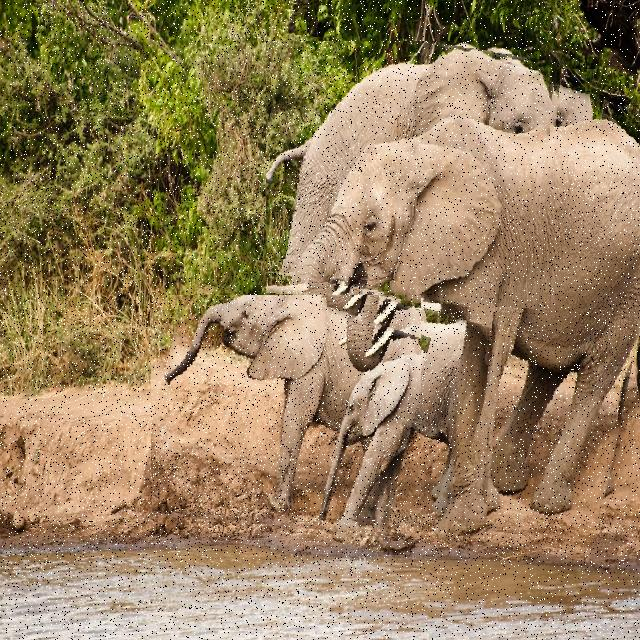elephant: (304, 69, 640, 548), (266, 41, 556, 309), (150, 295, 421, 539), (326, 304, 493, 542)
